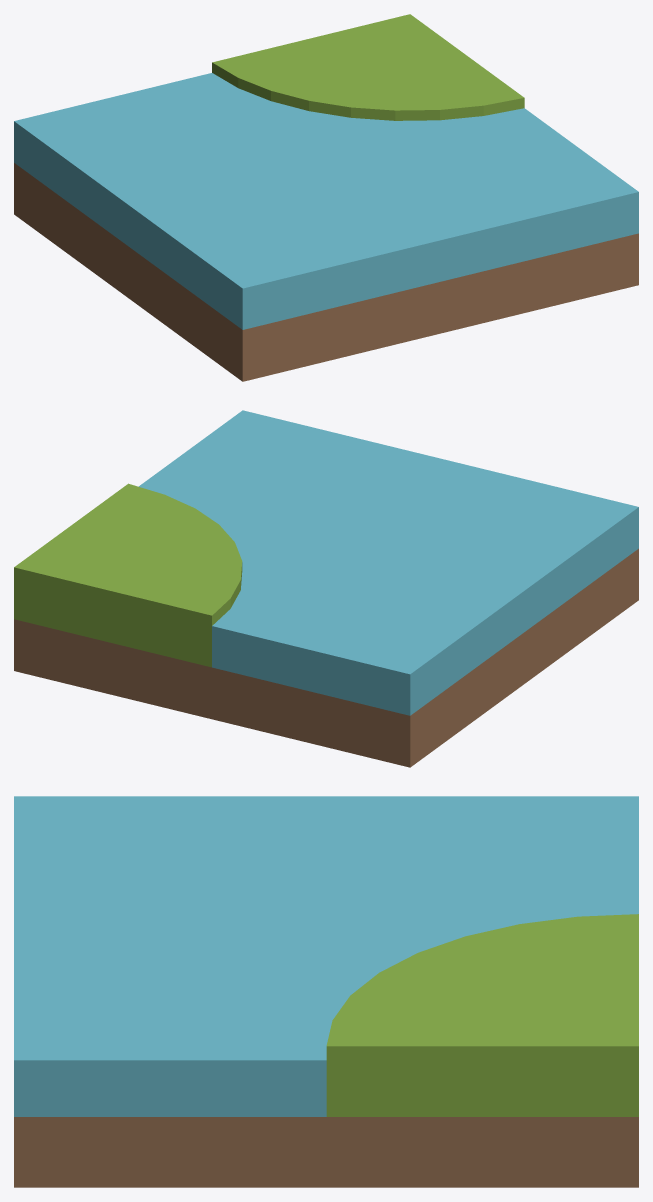
File: water-bedding-convex.obj
The picture shows the model from 3 angles, top to bottom: view 1: azimuth 30°, elevation 25°; view 2: azimuth 150°, elevation 25°; view 3: azimuth 270°, elevation 25°; orthographic projection. The views are drawn at different scales.
Visible parts, largest first — view 1: water-bedding-convex_Cube.045; view 2: water-bedding-convex_Cube.045; view 3: water-bedding-convex_Cube.045.
Boxes of the visible parts, x1,y1,x2,y2 form: water-bedding-convex_Cube.045: (14, 14, 638, 381); water-bedding-convex_Cube.045: (14, 410, 638, 767); water-bedding-convex_Cube.045: (14, 796, 638, 1187).
Size of the model in its own units: 8 by 2 by 8.
1 material, 1 textured.
